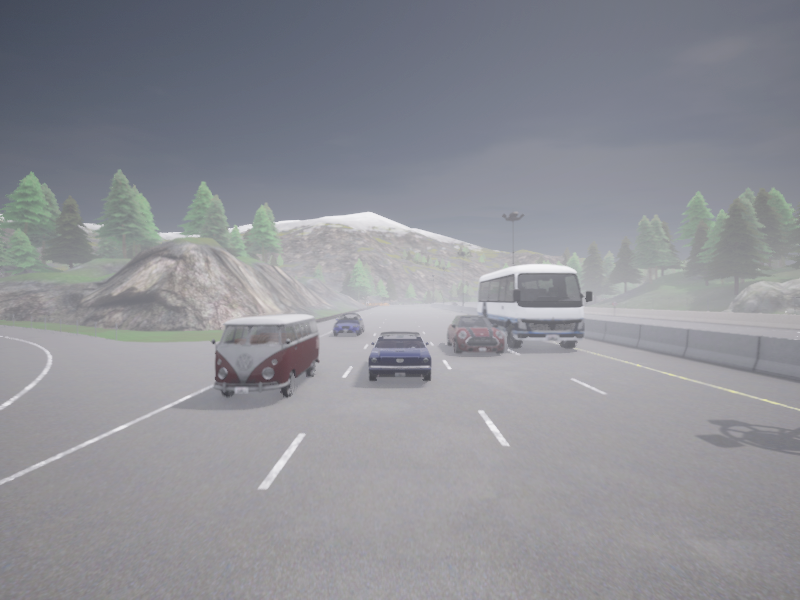vehicle: (477, 264, 591, 348), (212, 314, 319, 396), (369, 331, 431, 381), (447, 314, 504, 353), (333, 313, 363, 336), (451, 302, 456, 305)
